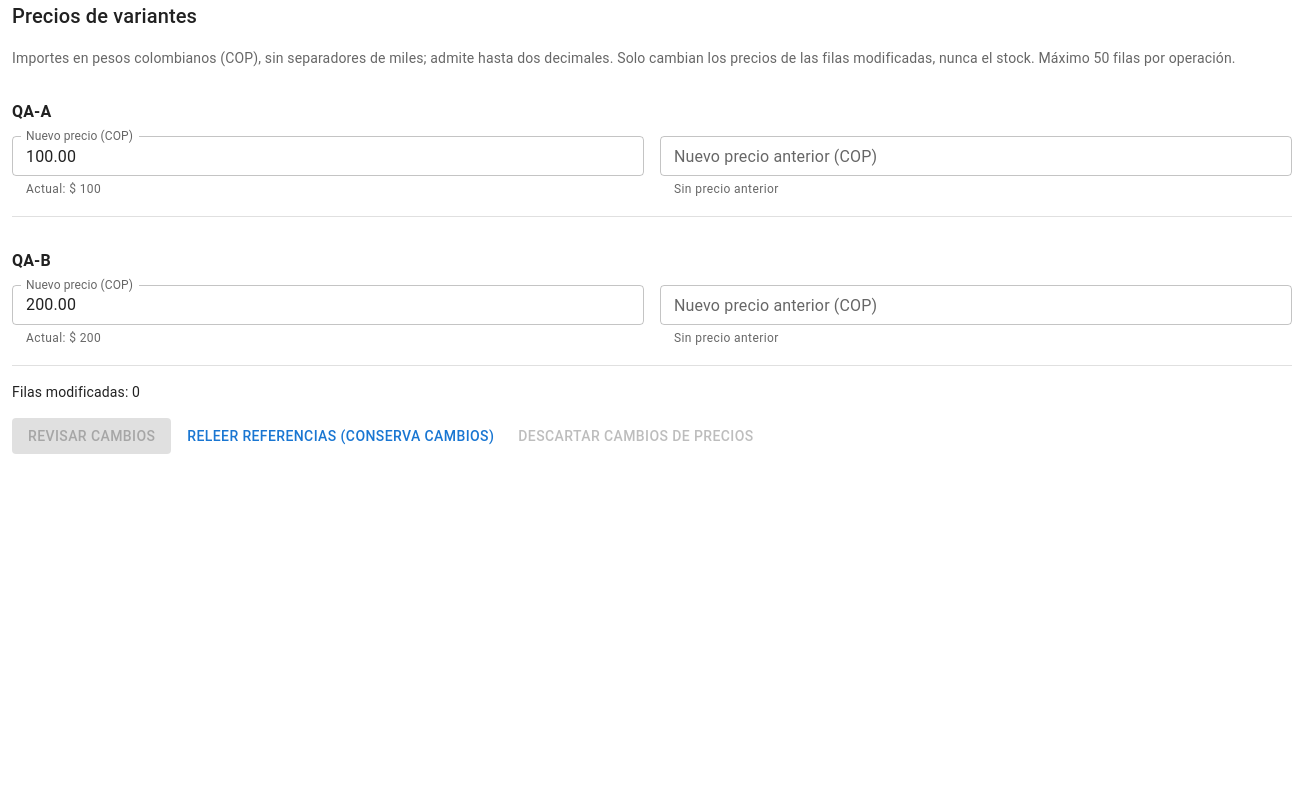
Test: keeps a retired row proposal visible until explicitly removed
The width and height of the screenshot is (1304, 800).
Replace the text in the field labelled "Nuevo precio (COP)" below "QA-A" with "250" at (328, 156), box [12, 136, 644, 176]
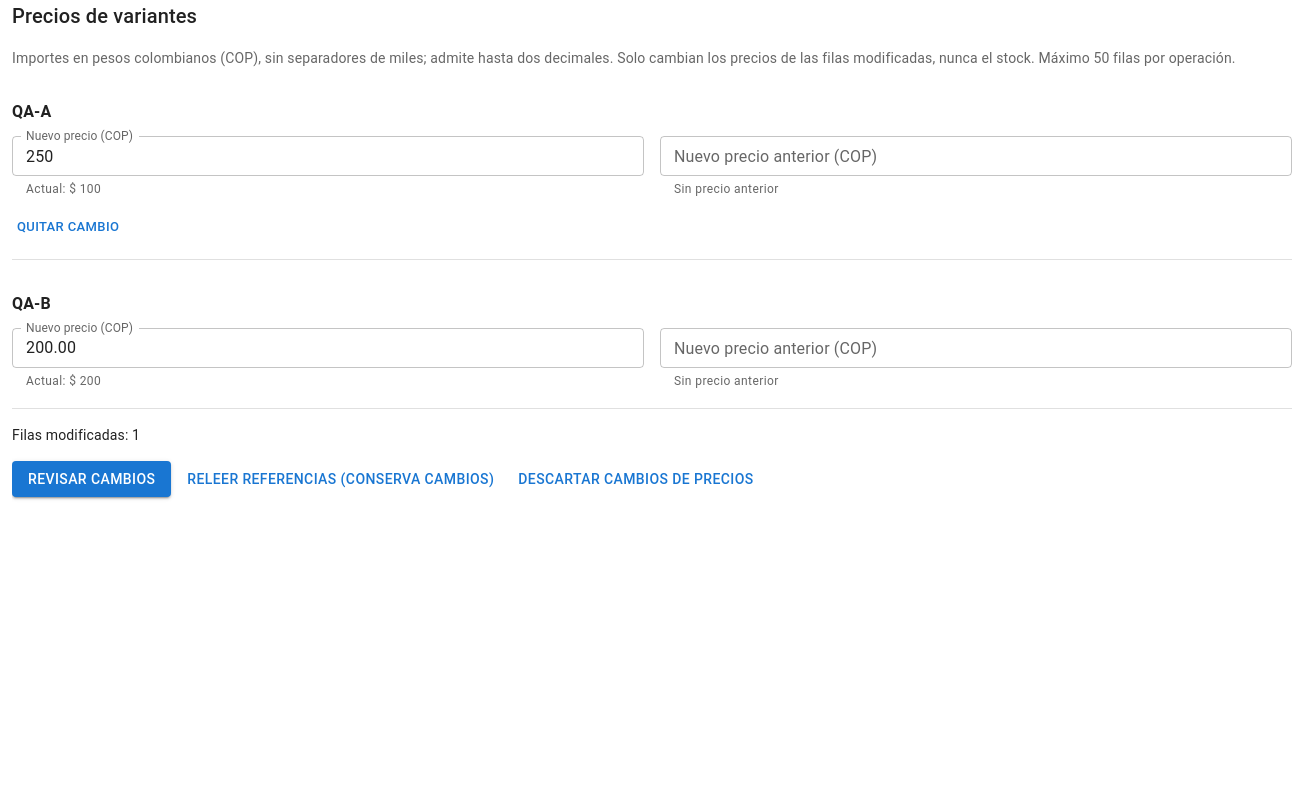
Click the button "Releer referencias (conserva cambios)" at (341, 479), box [179, 461, 502, 497]
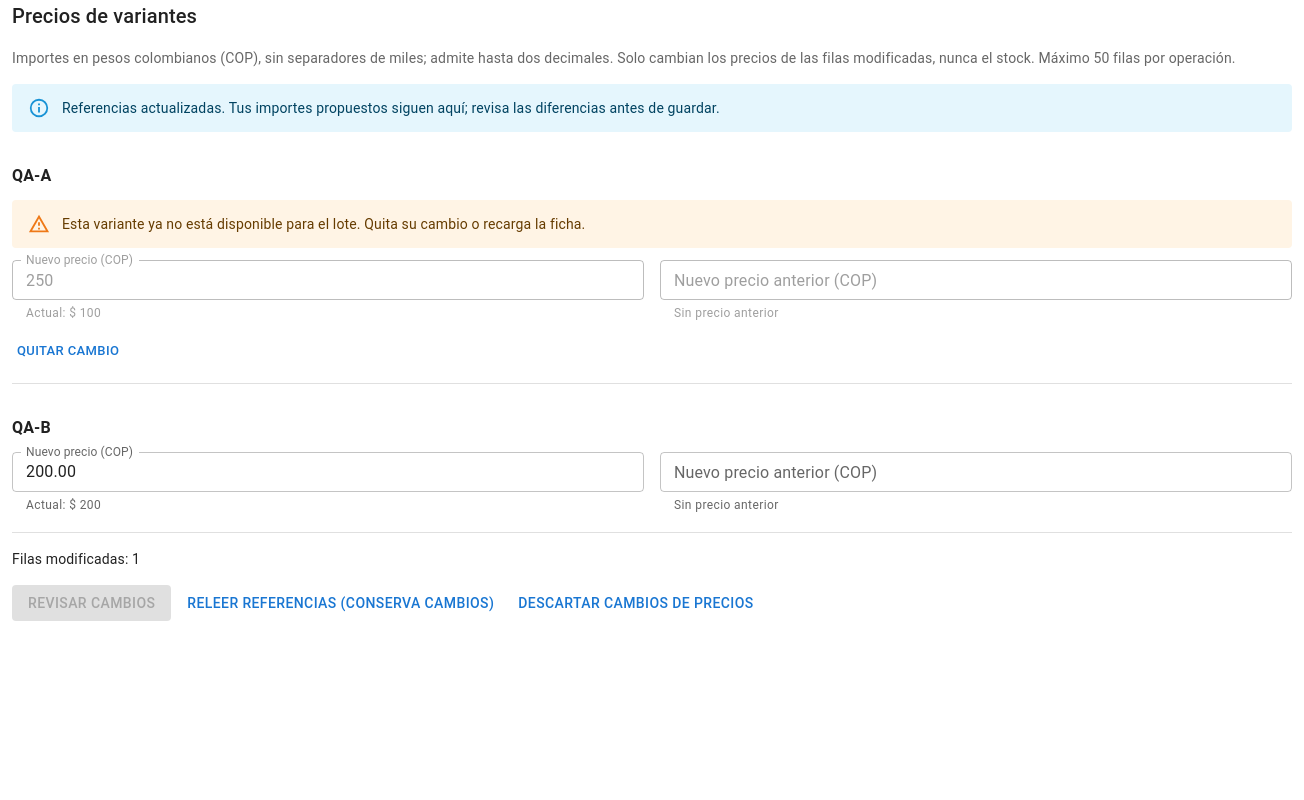
Expected: the text "Referencias actualizadas. Tus importes propuestos siguen aquí; revisa las diferencias antes de guardar." is shown, [62, 100, 720, 116]
Expected: the text "Esta variante ya no está disponible para el lote. Quita su cambio o recarga la ficha." is shown, [62, 216, 585, 232]
Expected: the button "Revisar cambios" is disabled, [12, 585, 171, 621]
Click the button "Quitar cambio" at (68, 351), box [12, 336, 124, 367]
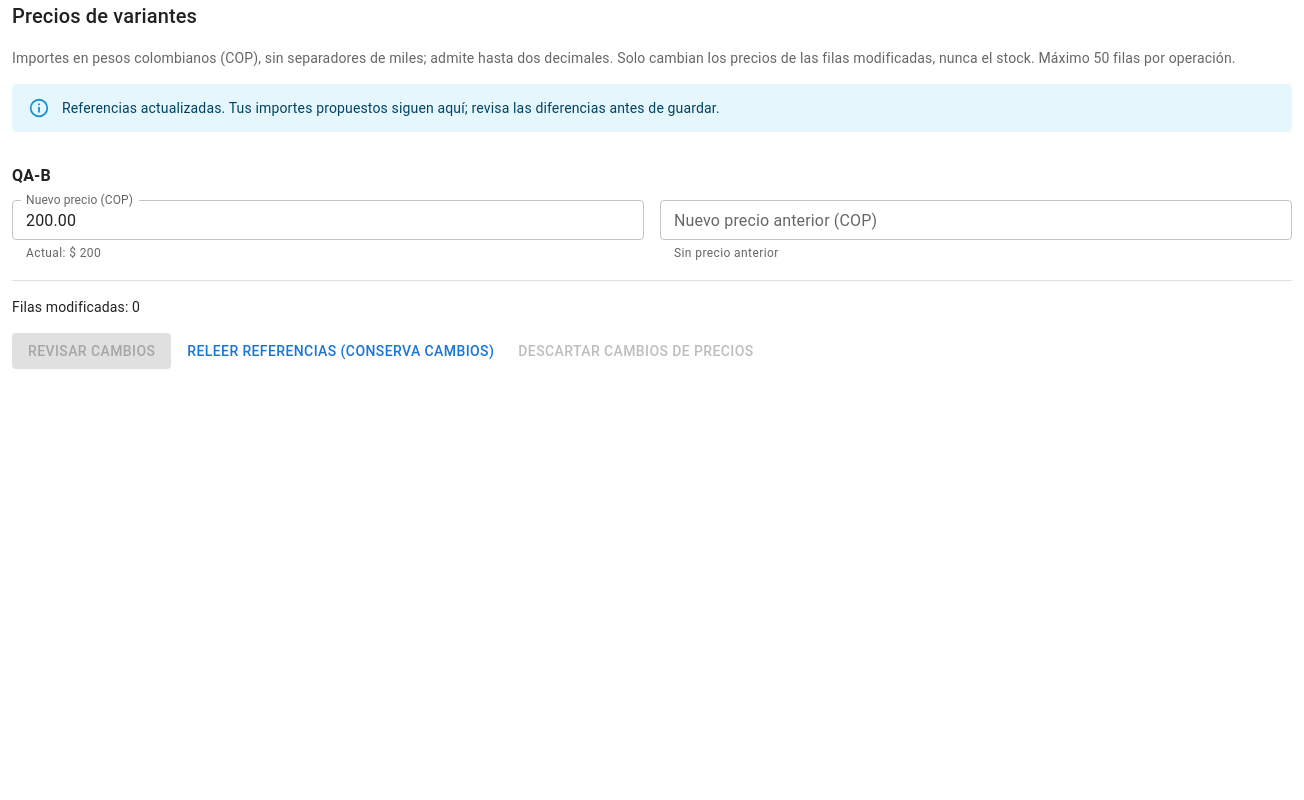
Expected: the text "Esta variante ya no está disponible para el lote. Quita su cambio o recarga la ficha." is gone
